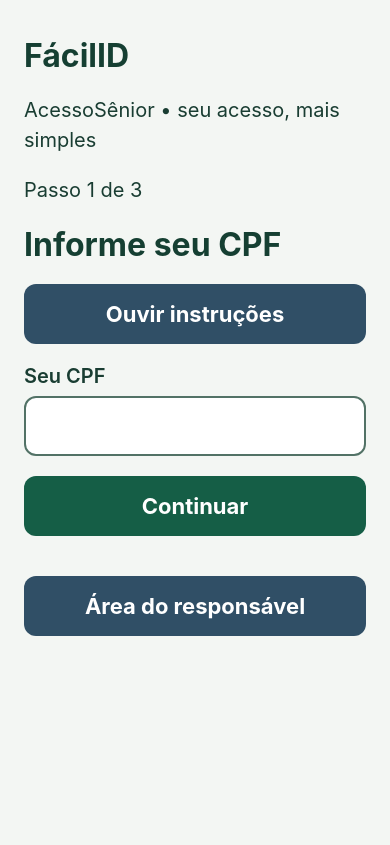
Scenario: trocar para o responsável durante consulta de login impede acesso liberado atrasado
Type "12345678900" into the field named "Seu CPF". click: (195, 426)
box: [24,396,366,456]
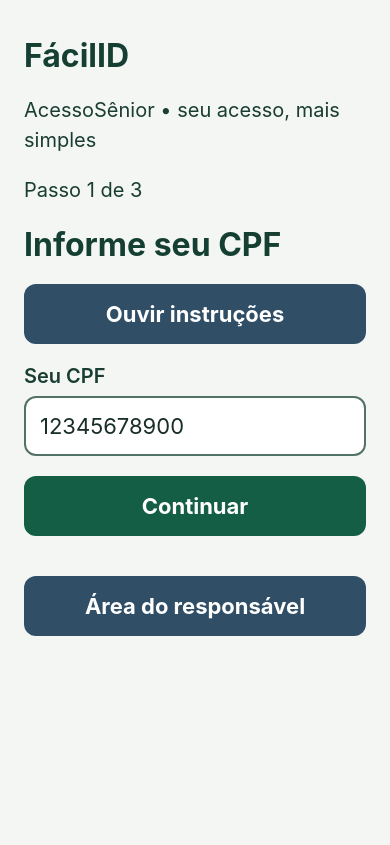
Click the button "Continuar". click: (195, 506)
box: [24,476,366,536]
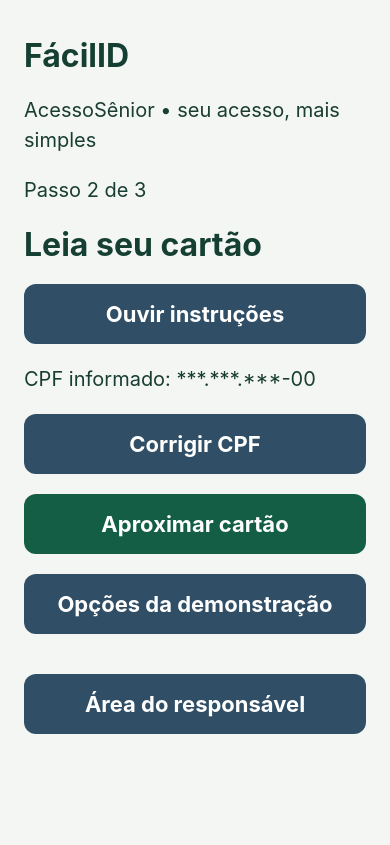
Click the button "Aproximar cartão". click: (195, 524)
box: [24,494,366,554]
(page scrolled)
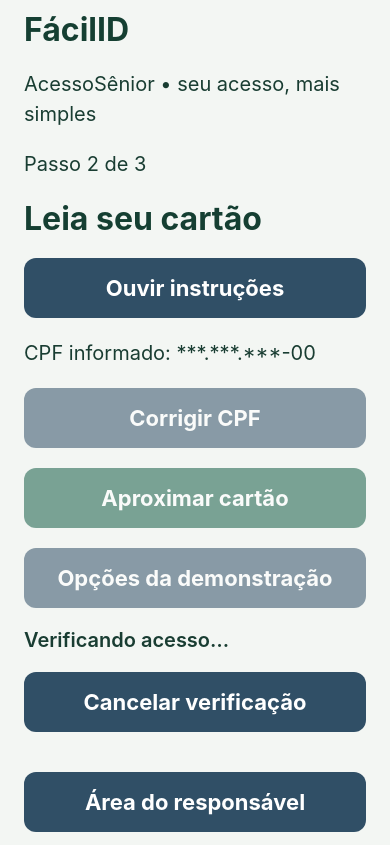
Click the button "Área do responsável". click: (195, 802)
box: [24,772,366,832]
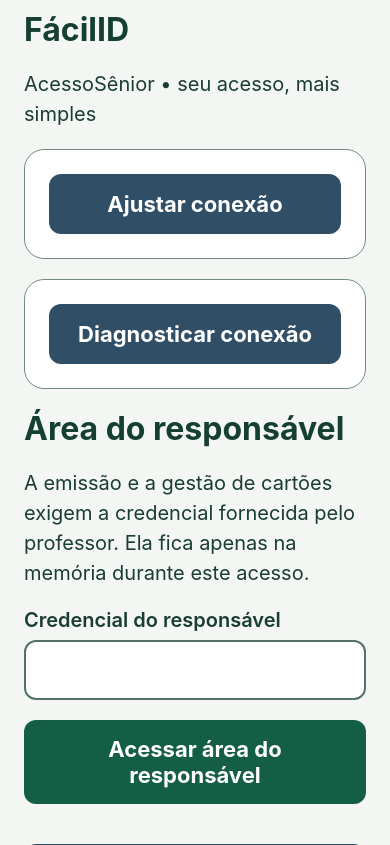
Expected: the password field named "Credencial do responsável" is shown, [24,640,366,700]
